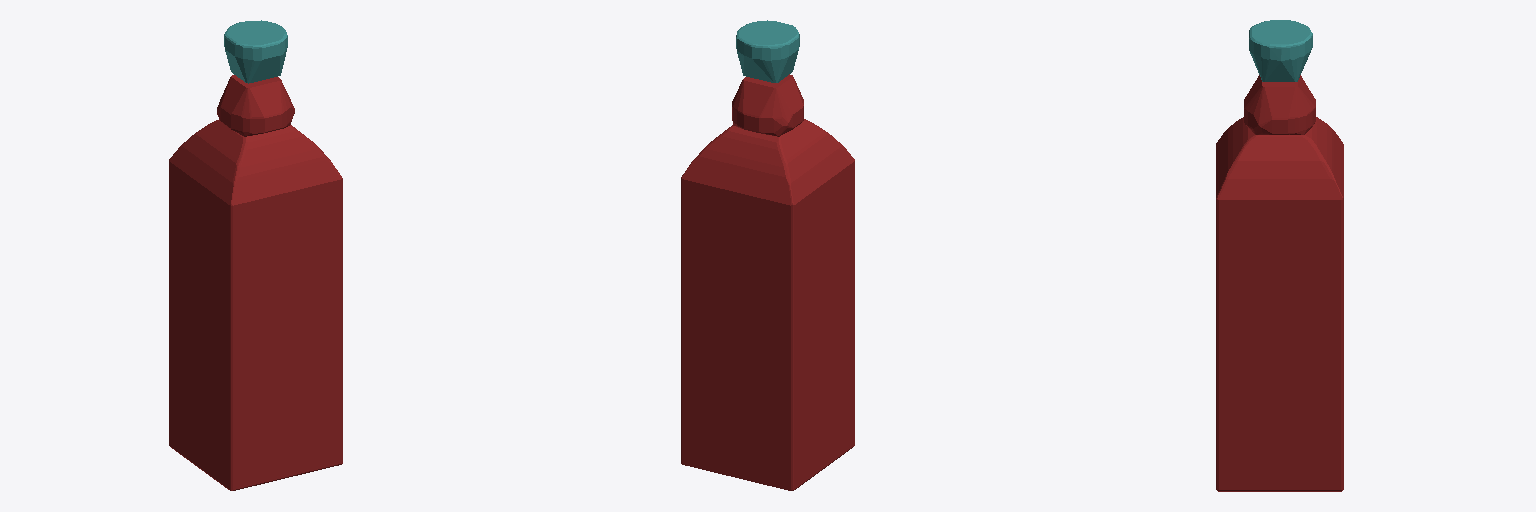
URDF robot description (root):
<robot name="root">
  <link name="bottle_body">
    <inertial>
      <origin xyz="0 0 0" rpy="0 0 0"/>
    </inertial>
    <mass value="1.00E-02"/>
    <visual>
      <origin xyz="0 0 0" rpy="0 0 0"/>
      <geometry>
        <mesh filename="core-bottle-81bf26a14c2dda38c19359cf6b65431e-coacd_convex_piece_0.obj" scale="1.0000E-01 1.0000E-01 1.0000E-01"/>
      </geometry>
      <material name="">
        <color rgba="6.00E-01 2.00E-01 2.00E-01 1"/>
      </material>
    </visual>
    <collision>
      <origin xyz="0 0 0" rpy="0 0 0"/>
      <geometry>
        <mesh filename="core-bottle-81bf26a14c2dda38c19359cf6b65431e-coacd_convex_piece_0.obj" scale="1.0000E-01 1.0000E-01 1.0000E-01"/>
      </geometry>
    </collision>
    <visual>
      <origin xyz="0 0 0" rpy="0 0 0"/>
      <geometry>
        <mesh filename="core-bottle-81bf26a14c2dda38c19359cf6b65431e-coacd_convex_piece_2.obj" scale="1.0000E-01 1.0000E-01 1.0000E-01"/>
      </geometry>
      <material name="">
        <color rgba="6.00E-01 2.00E-01 2.00E-01 1"/>
      </material>
    </visual>
    <collision>
      <origin xyz="0 0 0" rpy="0 0 0"/>
      <geometry>
        <mesh filename="core-bottle-81bf26a14c2dda38c19359cf6b65431e-coacd_convex_piece_2.obj" scale="1.0000E-01 1.0000E-01 1.0000E-01"/>
      </geometry>
    </collision>
  </link>
  <link name="bottle_cap">
    <origin xyz="0 0 0.002" rpy="0 0 0"/>
    <mass value="1.00E-02"/>
    <visual>
      <origin xyz="0 0 0.002" rpy="0 0 0"/>
      <geometry>
        <mesh filename="core-bottle-81bf26a14c2dda38c19359cf6b65431e-coacd_convex_piece_1.obj" scale="1.0000E-01 1.0000E-01 1.0000E-01"/>
      </geometry>
      <material name="">
        <color rgba="3.00E-01 6.00E-01 6.00E-01 1"/>
      </material>
    </visual>
    <collision>
      <origin xyz="0 0 0.002" rpy="0 0 0"/>
      <geometry>
        <mesh filename="core-bottle-81bf26a14c2dda38c19359cf6b65431e-coacd_convex_piece_1.obj" scale="1.0000E-01 1.0000E-01 1.0000E-01"/>
      </geometry>
    </collision>
  </link>
  <joint name="bottle_cap_joint" type="revolute">
    <origin xyz="0 0 0" rpy="0 0 0"/>
    <parent link="bottle_body"/>
    <child link="bottle_cap"/>
    <axis xyz="0 0 1"/>
    <limit lower="0.00" upper="6.28"/>
    <dynamics damping="0.05"/>
  </joint>
</robot>

--- Facts derived from the render (not from the file) ---
The picture shows the robot from 3 angles, left to right: view 1: azimuth 30°, elevation 25°; view 2: azimuth 150°, elevation 25°; view 3: azimuth 270°, elevation 25°; orthographic projection.
Robot: root — 2 links, 1 joints (1 revolute); root link bottle_body; default pose: every joint at zero.
Links seen in each view (by area): view 1: bottle_body, bottle_cap; view 2: bottle_body, bottle_cap; view 3: bottle_body, bottle_cap.
Link boxes in pixels (bbox=[...]): bottle_body: bbox=[169, 75, 342, 490]; bottle_cap: bbox=[224, 20, 287, 83]; bottle_body: bbox=[681, 74, 854, 490]; bottle_cap: bbox=[736, 20, 799, 82]; bottle_body: bbox=[1216, 75, 1343, 491]; bottle_cap: bbox=[1249, 20, 1312, 81].
Size in the robot's own frame: 0.0516 by 0.0497 by 0.1847 metres.
3 mesh visuals loaded from 3 distinct referenced files (3 OBJ).